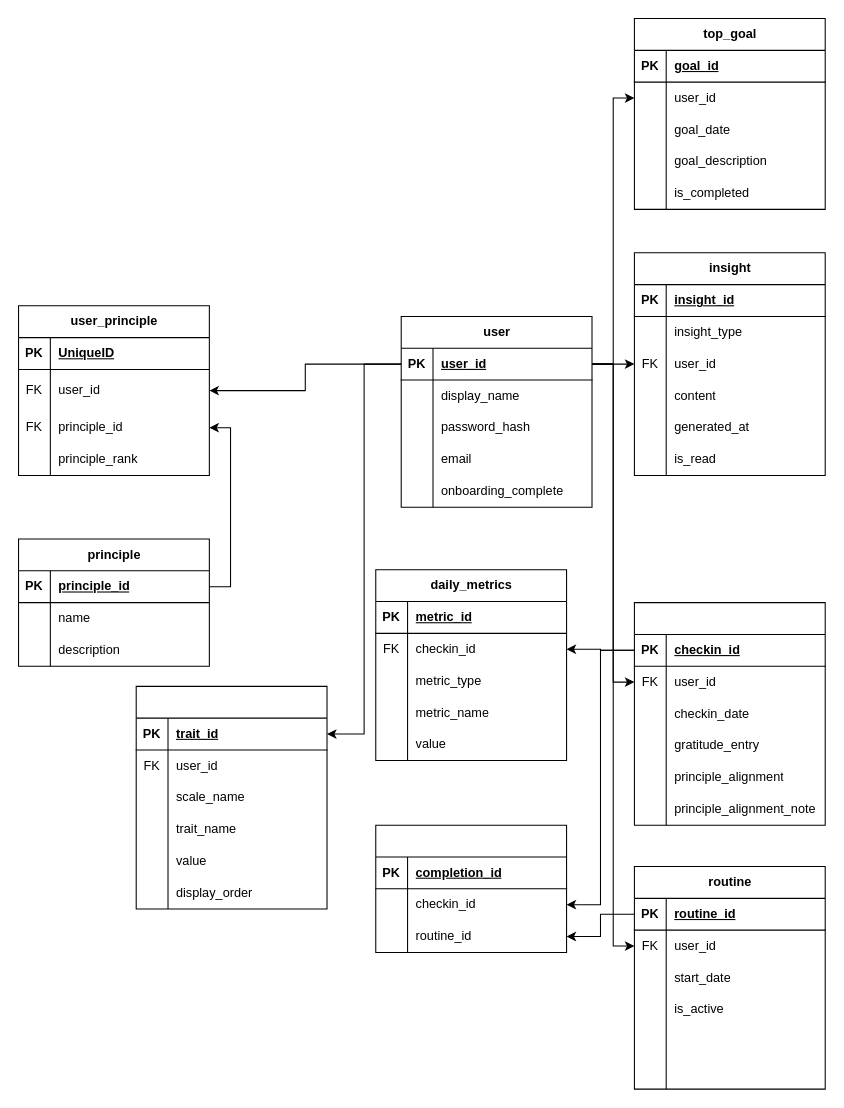
Some shapes in this 844 by 1108 pixel diagram are drawn without their labels. Each missing label, with the box of its shape:
completed_routine: (375, 824, 567, 952)
daily_checkin: (633, 602, 825, 825)
personality_trait: (135, 685, 327, 909)
